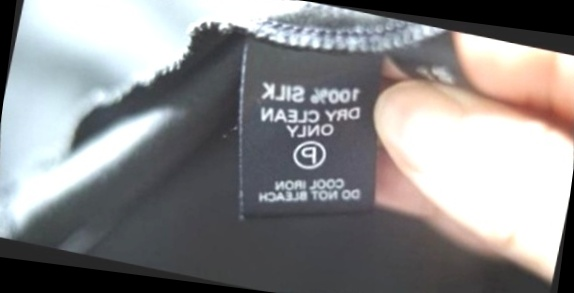dry_clean_any_solvent_except_trichloroethylene: (286, 132, 332, 176)
